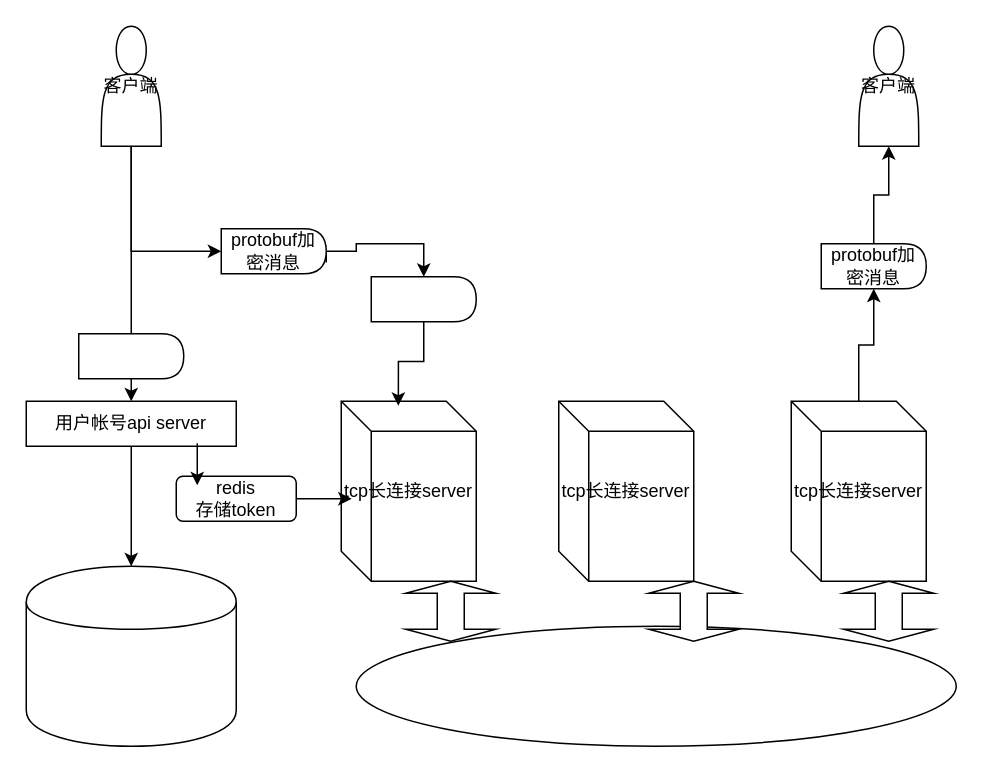
Image size: 983x773. Some labels were removed from this diagram. Each missing label, with the centre of its shape:
db 用户账户数据 群组信息: (x=130, y=655)
http请求: (x=130, y=355)
MQ 分布式消息队列: (x=655, y=685)
tcp长连接 token: (x=423, y=298)
